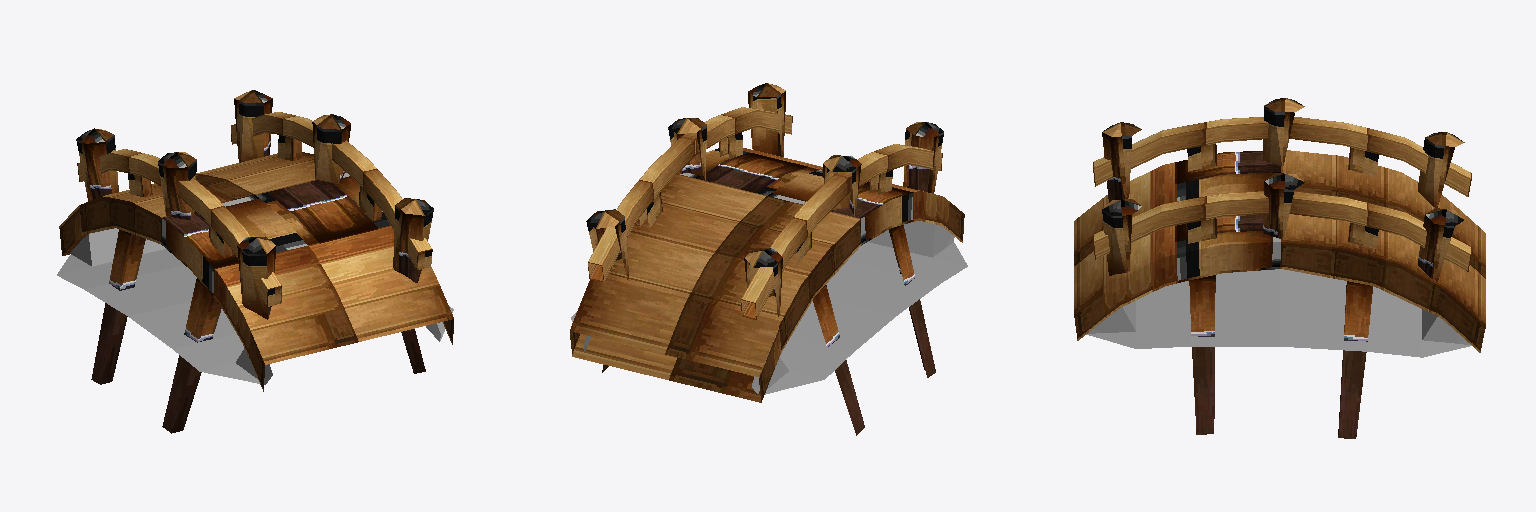
The picture shows the model from 3 angles: view 1: azimuth 30°, elevation 25°; view 2: azimuth 150°, elevation 25°; view 3: azimuth 270°, elevation 25°; orthographic projection.
Parts seen in each view (by area): view 1: vsn_mesh_0__mesh_0_.005, vsn_mesh_1__mesh_1_.004; view 2: vsn_mesh_0__mesh_0_.005, vsn_mesh_1__mesh_1_.004; view 3: vsn_mesh_0__mesh_0_.005, vsn_mesh_1__mesh_1_.004.
Boxes of the visible parts, x1,y1,x2,y2 form: vsn_mesh_0__mesh_0_.005: [59, 90, 453, 433]; vsn_mesh_1__mesh_1_.004: [57, 228, 453, 384]; vsn_mesh_0__mesh_0_.005: [570, 83, 964, 435]; vsn_mesh_1__mesh_1_.004: [571, 221, 967, 394]; vsn_mesh_0__mesh_0_.005: [1074, 98, 1485, 438]; vsn_mesh_1__mesh_1_.004: [1086, 269, 1471, 357].
Size of the model in its own units: 103 by 92.94 by 144.
Materials: 2 (1 with a texture image).